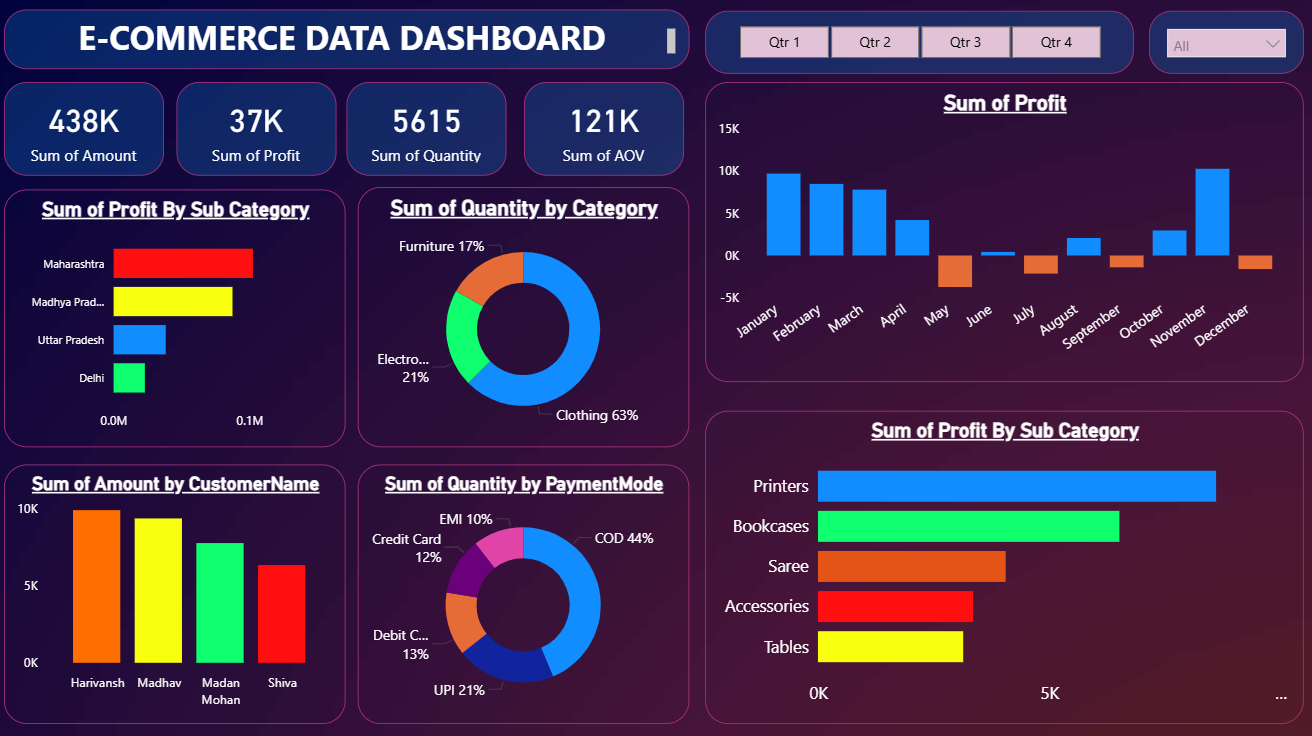

What the dashboard file says about the page in this screenshot:
{"tool":"powerbi","page":{"name":"Page 1","canvas":[1280,720],"ordinal":0},"visuals":[{"type":"textbox","box":[9.6,12.3,661.4,57.6],"z":0},{"type":"columnChart","title":"Sum of Profit ","fields":{"Category":["Orders_Cleaned (1).Order Date.Variation.Date Hierarchy.Month"],"Y":["Details.Profit"]},"box":[687,82.1,577.5,289.5],"z":1000},{"type":"barChart","title":"Sum of Profit By Sub Category","fields":{"Category":["Details.Sub-Category"],"Y":["Details.Profit"]},"box":[687,398.9,577.5,302.4],"z":2000},{"type":"donutChart","fields":{"Category":["Details.Category"],"Y":["Details.Quantity"]},"box":[351.3,183.9,319.7,251.1],"z":3000},{"type":"donutChart","fields":{"Y":["Details.Quantity"],"Category":["Details.PaymentMode"]},"box":[351.4,450.8,319.7,250.6],"z":4000},{"type":"barChart","title":"Sum of Profit By Sub Category","fields":{"Category":["Orders_Cleaned (1).State"],"Y":["Details.Amount"]},"box":[10.1,185.8,329.8,249.1],"z":5000},{"type":"columnChart","fields":{"Y":["Details.Amount"],"Category":["Orders_Cleaned (1).CustomerName"]},"box":[10.1,450.8,329.8,250.6],"z":6000},{"type":"card","fields":{"Values":["Details.Amount"]},"box":[10.1,82.1,154.1,90.7],"z":7000},{"type":"card","fields":{"Values":["Details.Profit"]},"box":[175.7,82.1,154.1,90.7],"z":8000},{"type":"card","fields":{"Values":["Details.Quantity"]},"box":[339.9,82.1,154.1,90.7],"z":9000},{"type":"card","fields":{"Values":["Details.AOV"]},"box":[511.3,82.1,154.1,90.7],"z":10000},{"type":"slicer","fields":{"Values":["Orders_Cleaned (1).Order Date.Variation.Date Hierarchy.Quarter"]},"box":[687,13,413.3,60.5],"z":11000},{"type":"slicer","fields":{"Values":["Orders_Cleaned (1).State"]},"box":[1114.7,13,149.8,60.5],"z":12000}]}

Visuals, with their boxes in screenshot pixels (x1, y1, x2, y2), scaled from the page's 1280x720 canvas onto the 1312x736 screenshot:
textbox: bbox(10, 13, 688, 71)
"Sum of Profit " columnChart: bbox(704, 84, 1296, 380)
"Sum of Profit By Sub Category" barChart: bbox(704, 408, 1296, 717)
donutChart - Details.Category x Details.Quantity: bbox(360, 188, 688, 445)
donutChart - Details.Quantity x Details.PaymentMode: bbox(360, 461, 688, 717)
"Sum of Profit By Sub Category" barChart: bbox(10, 190, 348, 445)
columnChart - Details.Amount x Orders_Cleaned (1).CustomerName: bbox(10, 461, 348, 717)
card - Details.Amount: bbox(10, 84, 168, 177)
card - Details.Profit: bbox(180, 84, 338, 177)
card - Details.Quantity: bbox(348, 84, 506, 177)
card - Details.AOV: bbox(524, 84, 682, 177)
slicer - Orders_Cleaned (1).Order Date.Variation.Date Hierarchy.Quarter: bbox(704, 13, 1128, 75)
slicer - Orders_Cleaned (1).State: bbox(1143, 13, 1296, 75)
